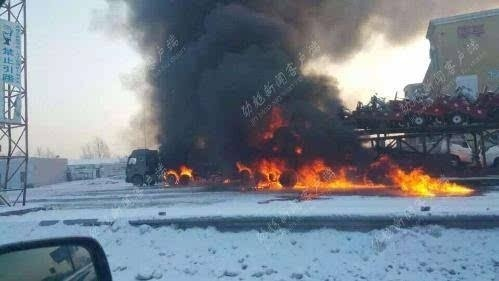fire: (231, 129, 479, 196), (161, 163, 194, 184)
